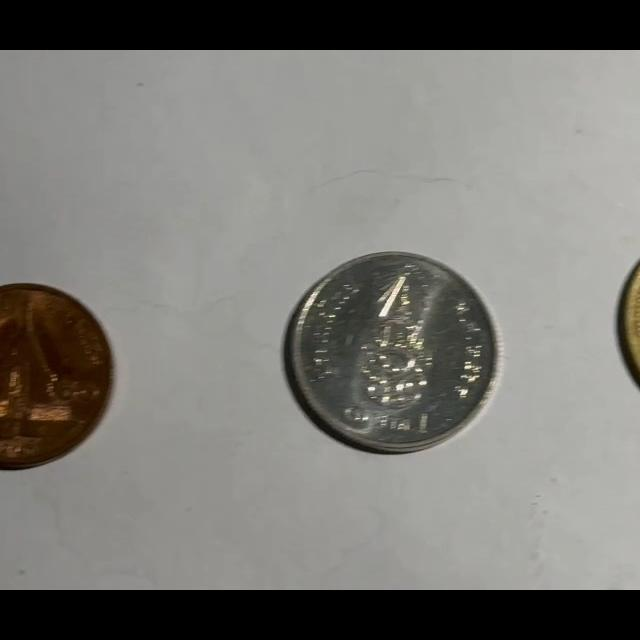1-baht: (285, 251, 501, 454)
50-satang: (0, 285, 112, 470)
